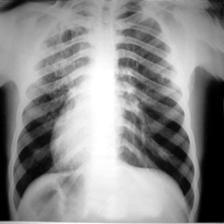tuberculosis: (11, 0, 200, 224)
